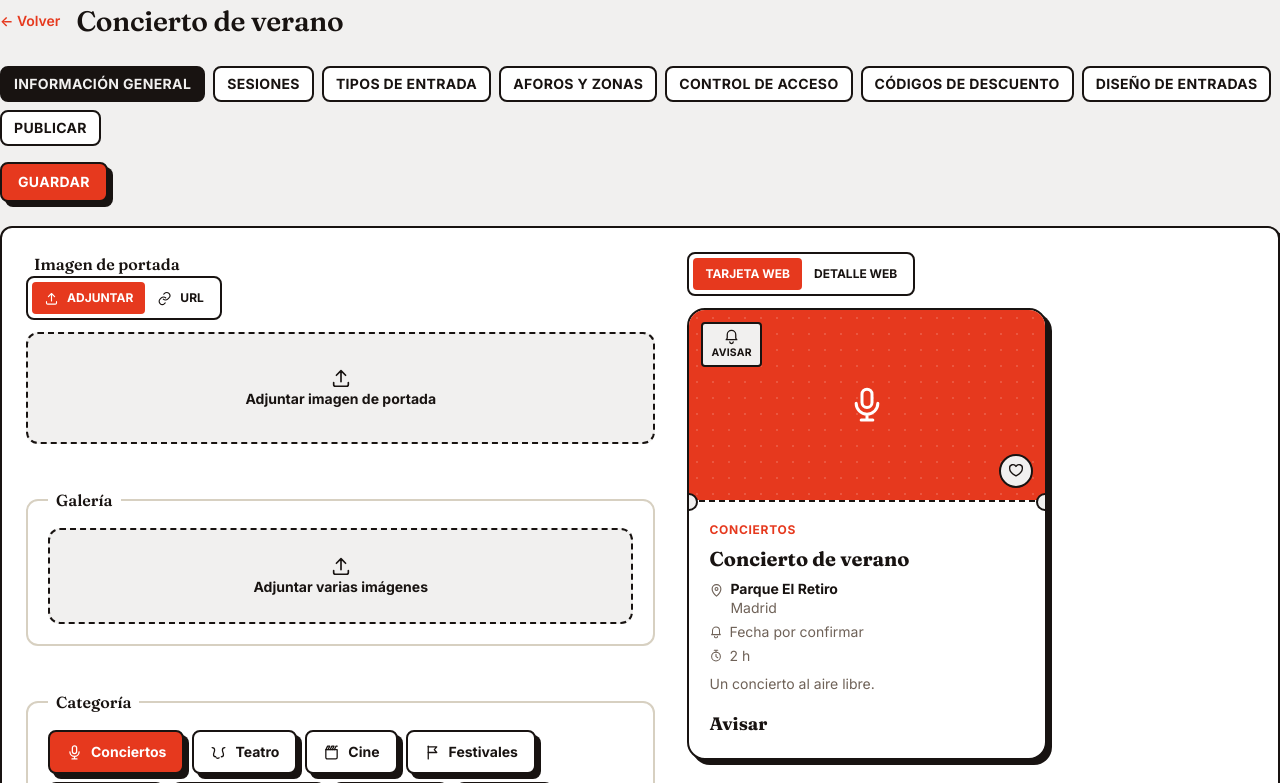
EventDetailPage: Guardar al lado de las secciones › no pide guardar dentro de Informacion general y el Guardar pregunta primero
Click the button "Guardar". click: (54, 182)
box: [0,162,108,202]
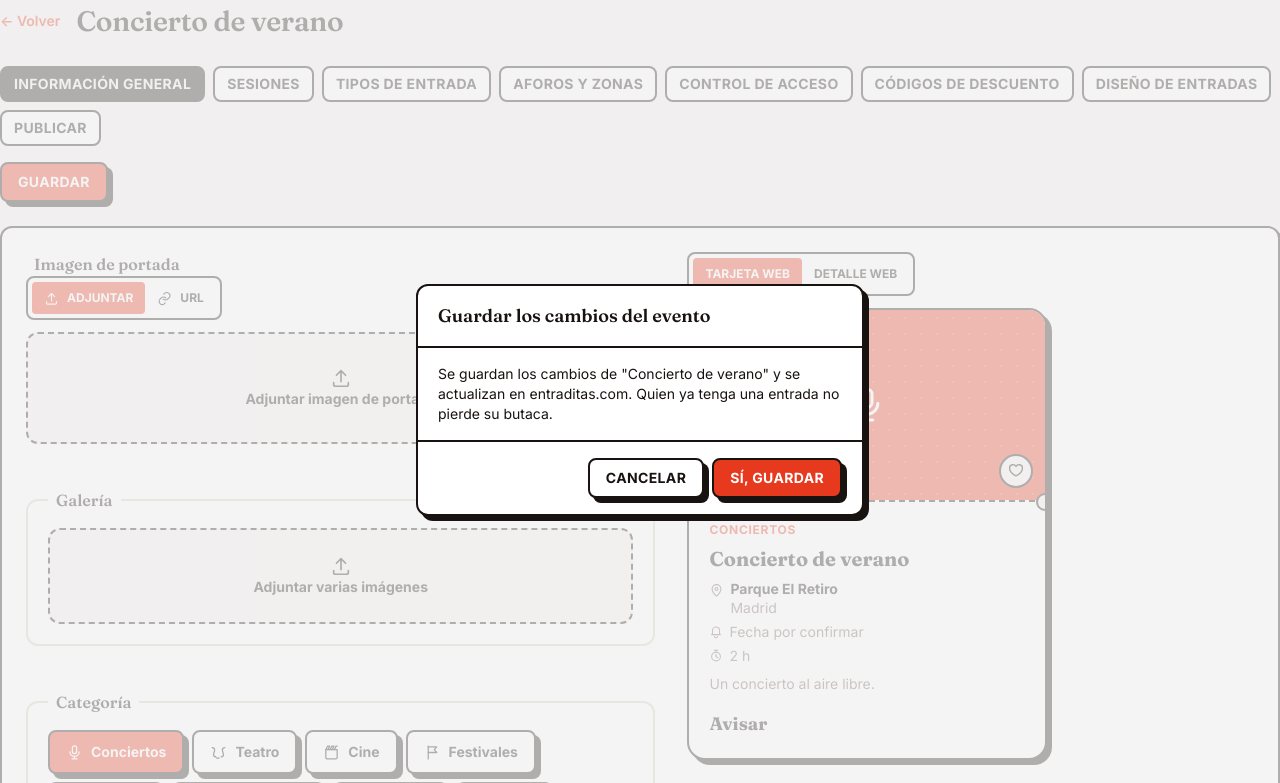
Expected: the dialog shows "Se guardan los cambios de", [438,365,839,422]
